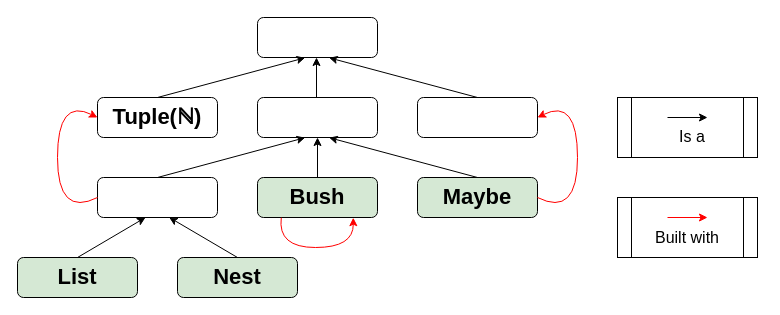
The diagram is 780 pixels wide and 315 high, and some of its shapes have lost their labels. Each missing label, with the box of its shape:
LNDT(TT): (256, 96, 378, 138)
N-PT(ℕ): (96, 176, 218, 218)
Null: (416, 96, 538, 138)
TT: (256, 16, 378, 58)
